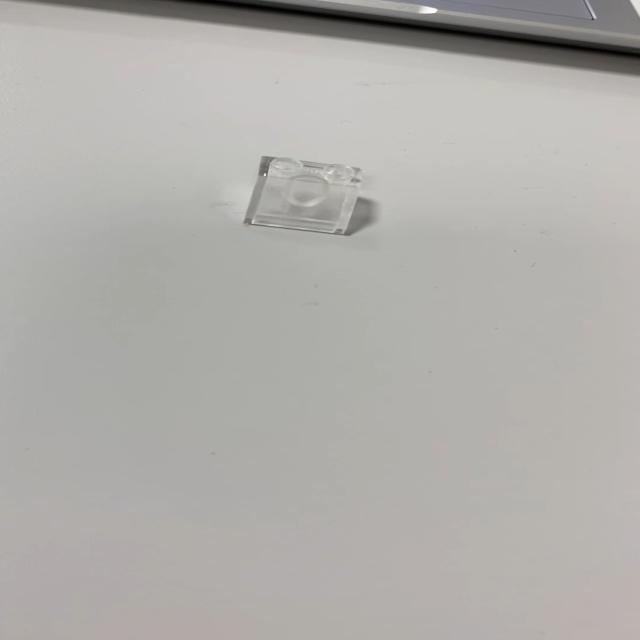P2x2x1: (240, 154, 362, 234)
